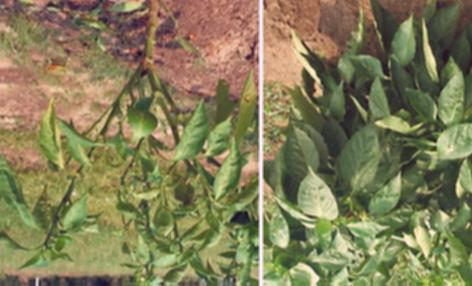Tomato leaf bacterial spot: (328, 127, 381, 201), (294, 165, 338, 226), (172, 97, 212, 164), (224, 72, 256, 154), (445, 36, 472, 129), (33, 93, 63, 175), (211, 140, 245, 211), (365, 166, 404, 218), (433, 119, 472, 163), (388, 14, 416, 74), (363, 74, 392, 131), (438, 69, 463, 128), (126, 96, 157, 143), (349, 51, 389, 86), (57, 195, 90, 235), (454, 162, 472, 202), (148, 251, 179, 265)
